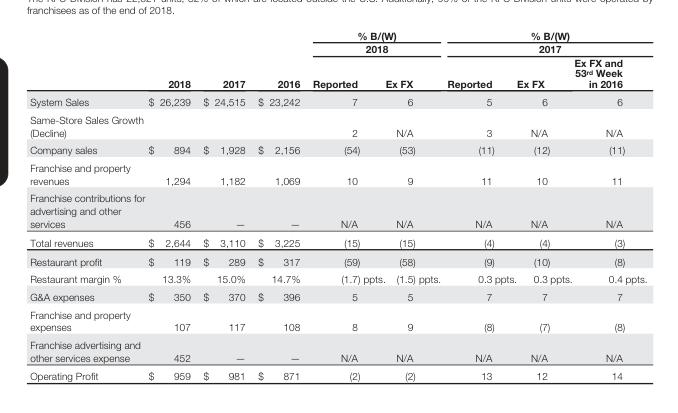table: (29, 28, 646, 381)
table column: (29, 28, 146, 381), (250, 28, 305, 381), (305, 28, 360, 381), (196, 28, 250, 381), (572, 28, 624, 381), (146, 28, 196, 381), (443, 28, 493, 381), (516, 28, 549, 381), (384, 28, 416, 381), (416, 28, 443, 381), (360, 28, 384, 381), (493, 28, 516, 381), (549, 28, 572, 381), (624, 28, 646, 381)
table column header: (29, 28, 646, 287)
table row: (29, 92, 646, 287), (29, 55, 646, 92), (29, 304, 646, 335), (29, 335, 646, 366), (29, 28, 646, 55), (29, 287, 646, 304), (29, 366, 646, 381)
table spanning cell: (29, 28, 146, 287), (250, 28, 305, 287), (196, 28, 250, 287), (146, 28, 196, 287), (443, 28, 646, 55), (305, 28, 443, 55), (305, 55, 384, 92), (572, 55, 646, 92), (443, 55, 516, 92), (384, 55, 443, 92), (516, 55, 572, 92)
